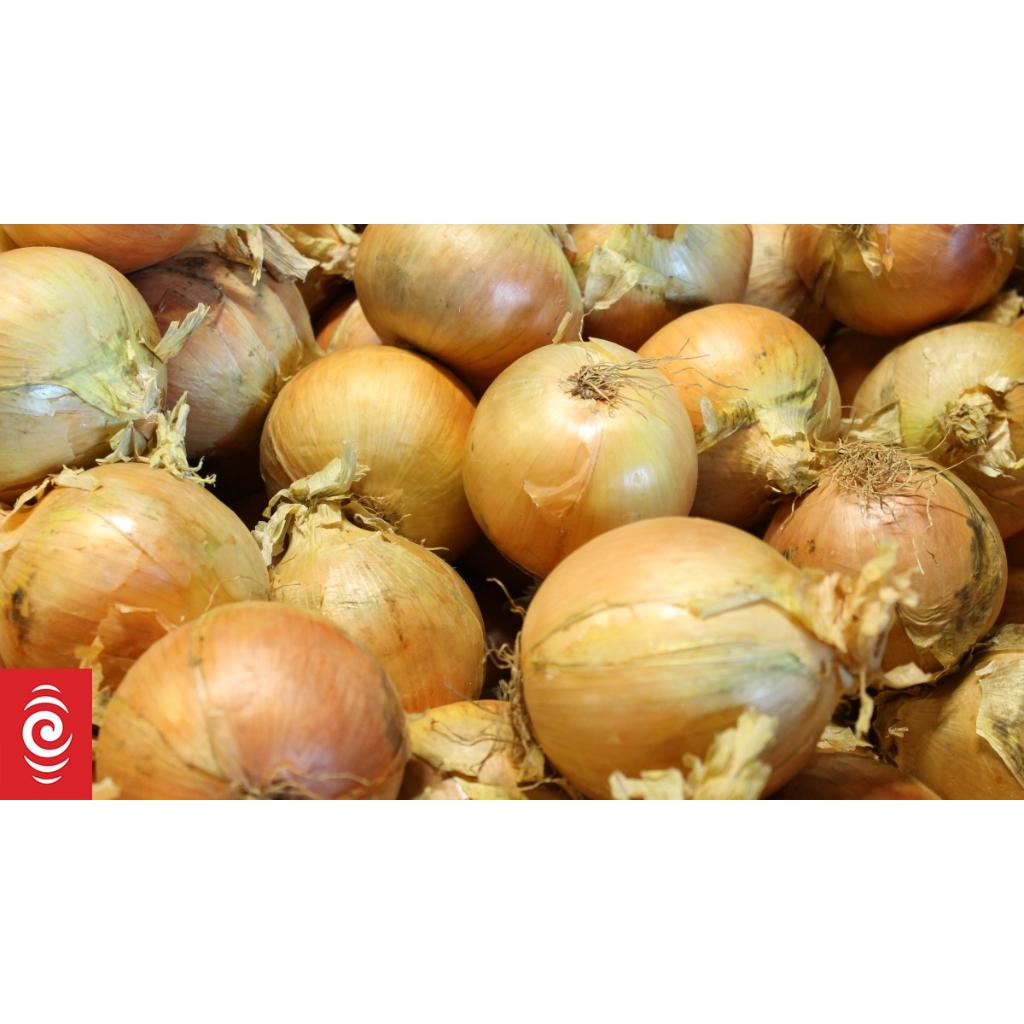Onion: (463, 337, 699, 577), (259, 345, 480, 561), (891, 496, 893, 504)
